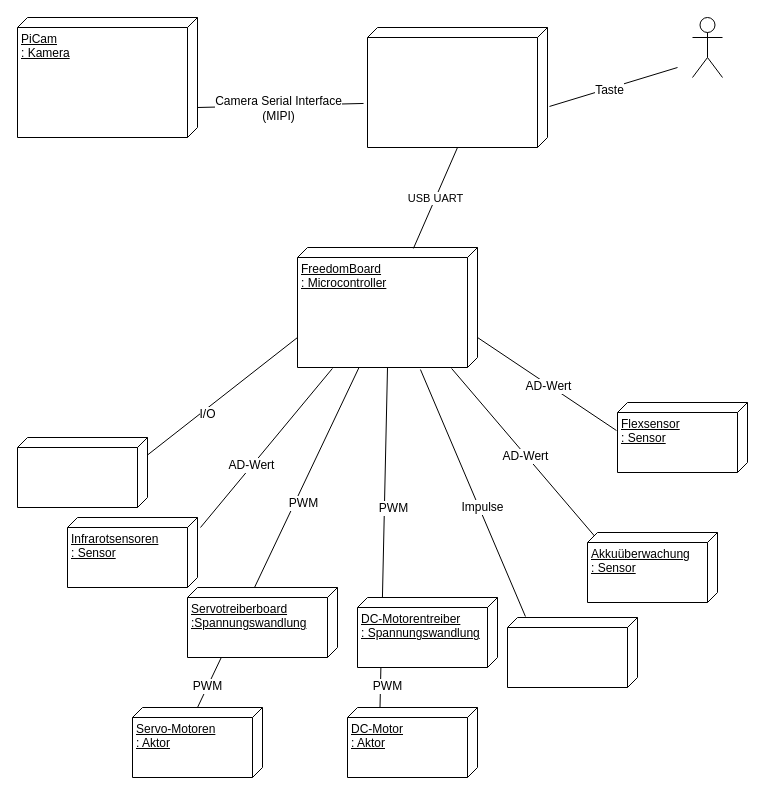
The diagram is 765 pixels wide and 795 high, and some of its shapes have lost their labels. Each missing label, with the centre of its shape:
Actor: the point at 707,47
Encoder : Sensor: the point at 572,652
Raspberry Pi : Mini-Computer: the point at 457,87
Ultraschallsensoren : Sensor: the point at 82,472
